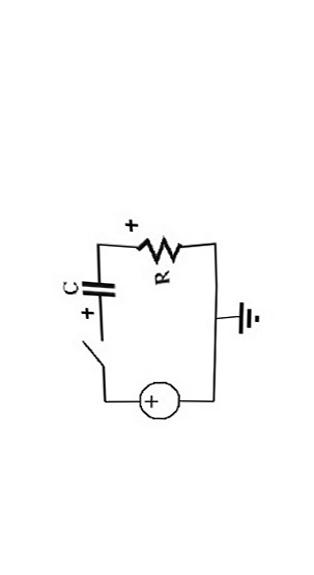Battery: (120, 362, 189, 443)
